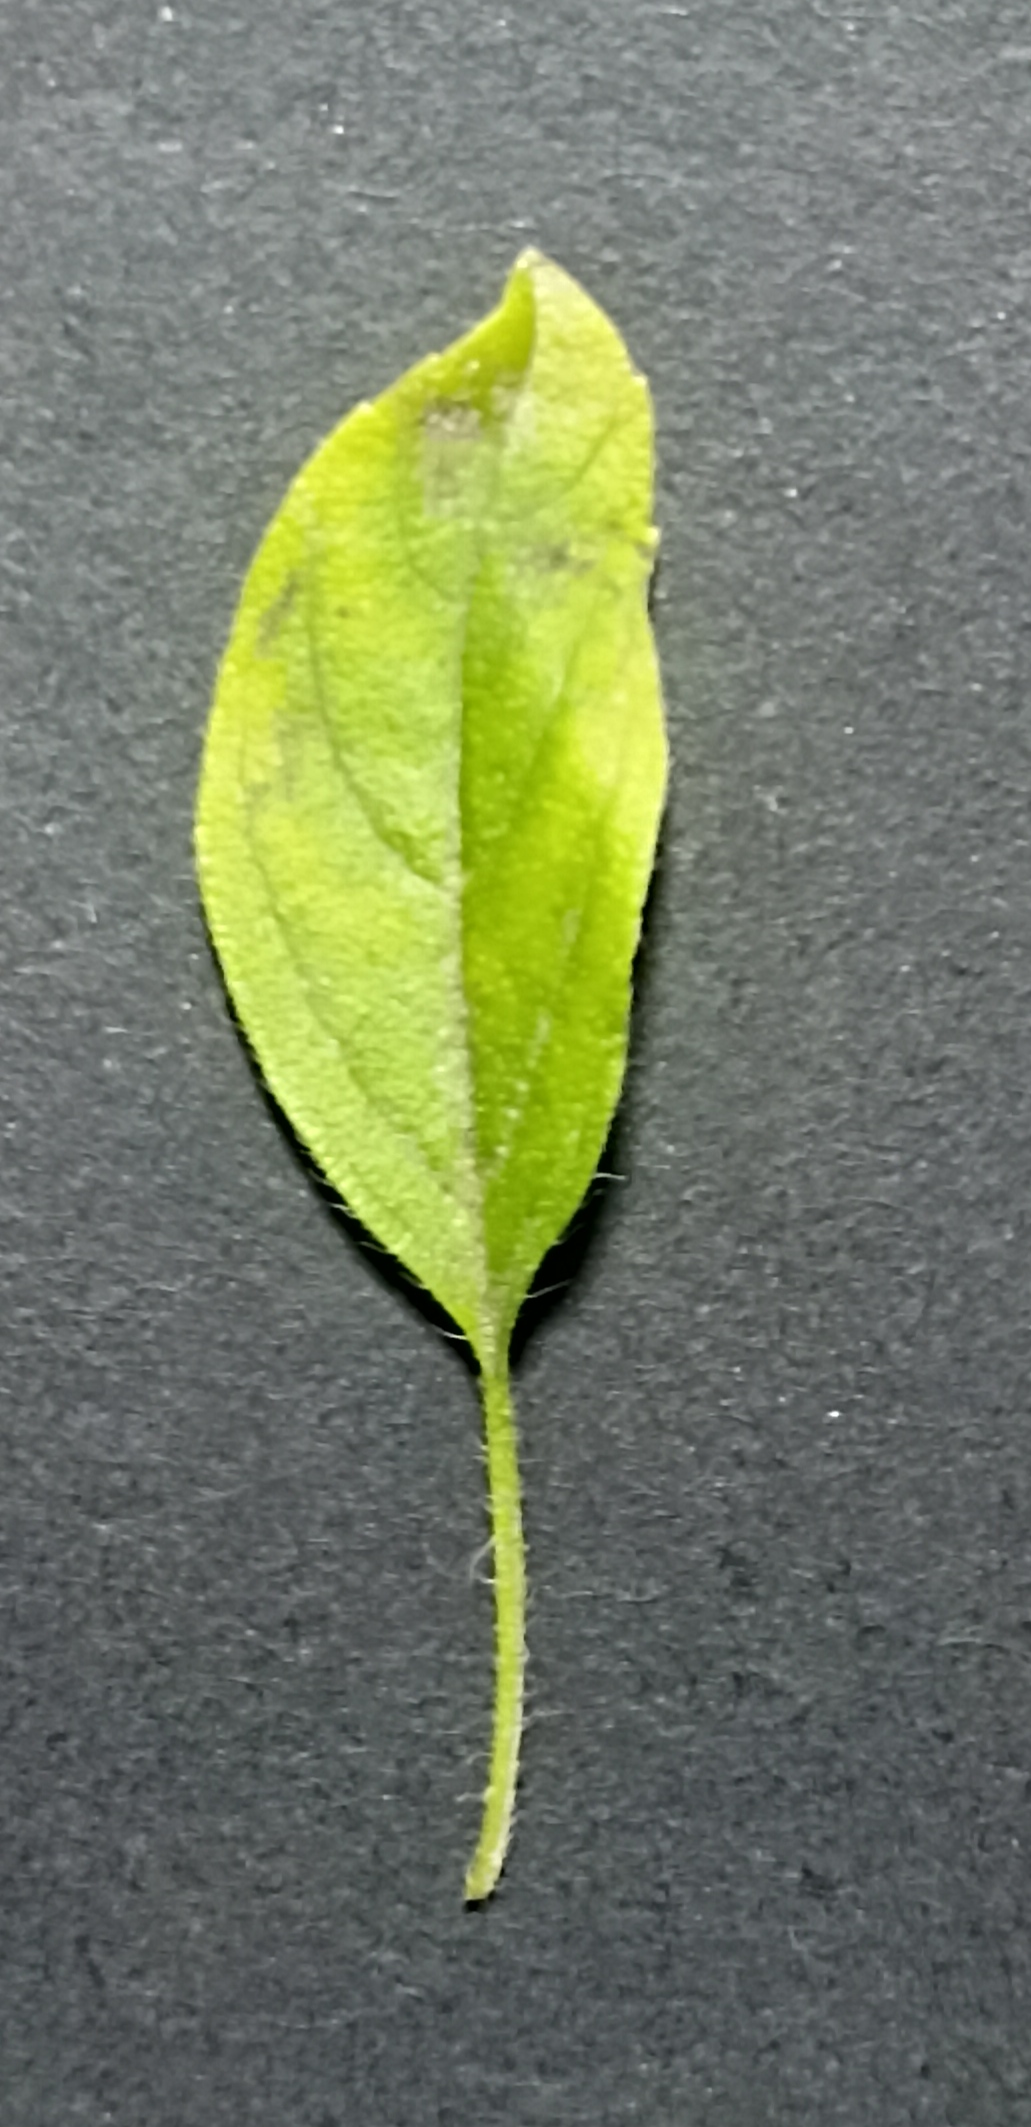Healthy: (168, 233, 699, 1386)
